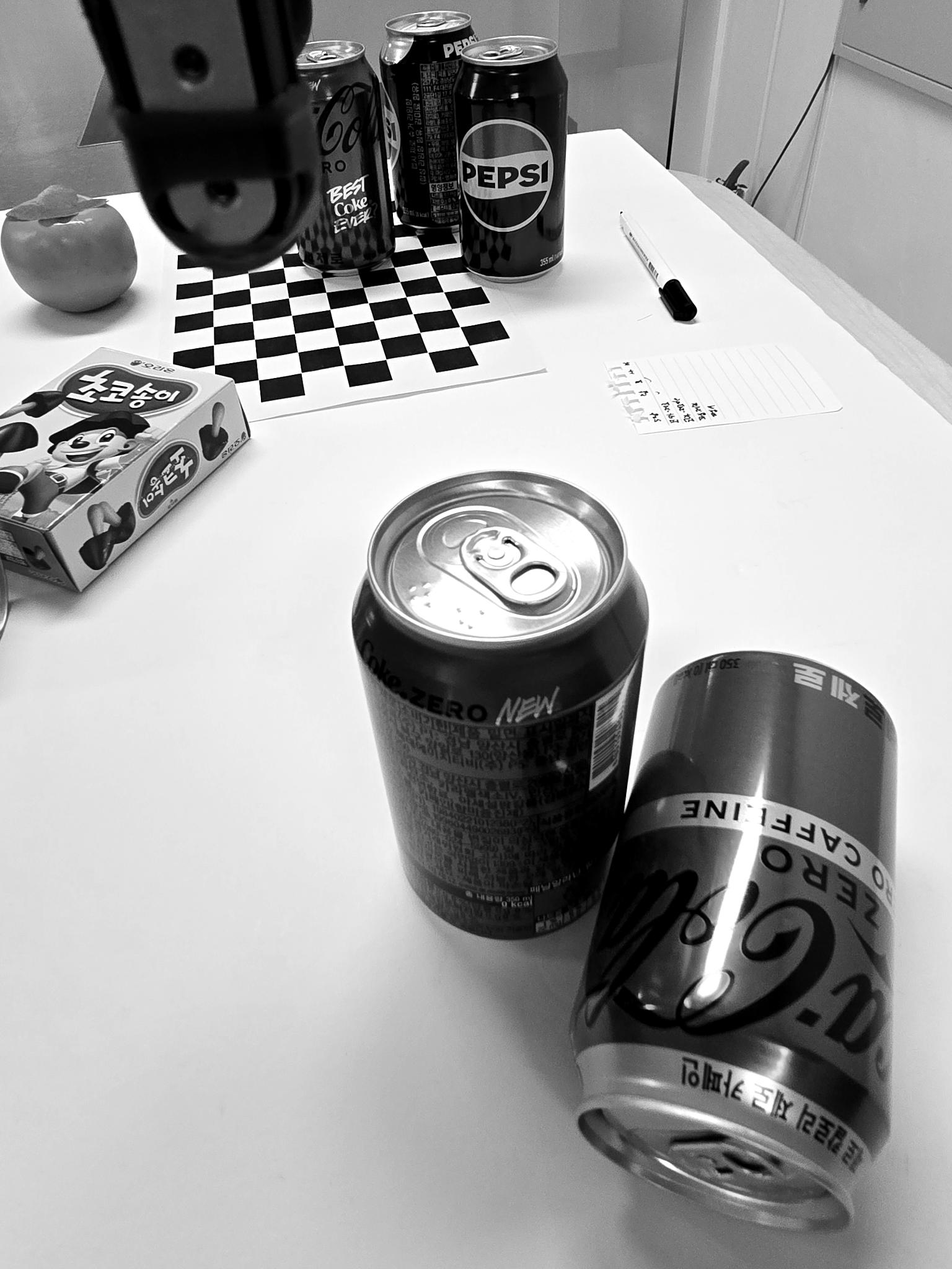can_coke_decaf: (565, 650, 896, 1205)
can_coke_zero: (354, 481, 654, 948)
can_pepsi: (454, 29, 576, 276)
